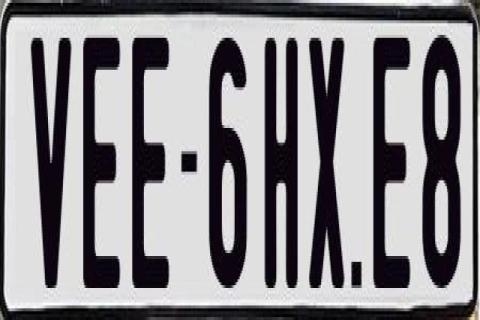0: (419, 29, 462, 294), (209, 35, 247, 299)
E: (83, 35, 126, 297), (372, 32, 410, 288), (132, 29, 169, 282)
H: (263, 32, 298, 282)
V: (29, 35, 75, 297)
X: (310, 38, 345, 302)
